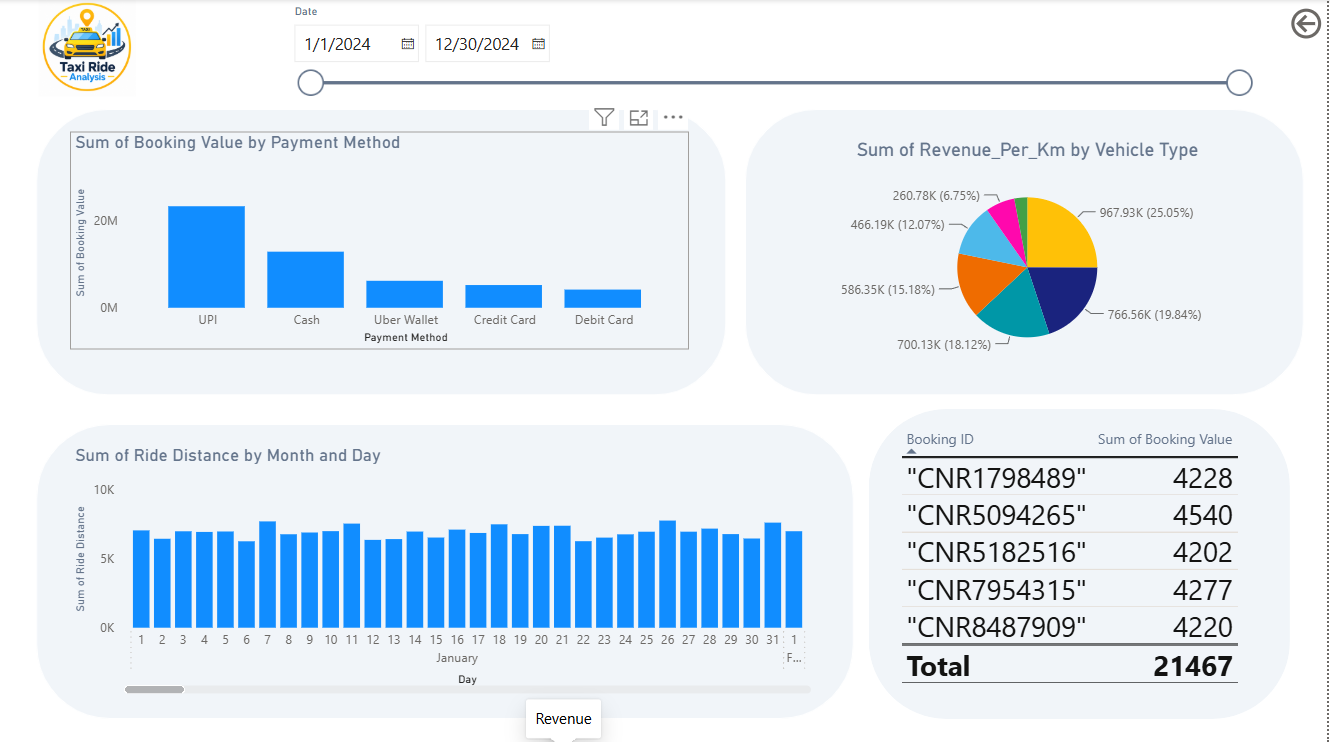

The dashboard page shown, as its layout file describes it:
{"tool":"powerbi","page":{"name":"Revenue","canvas":[1280,720],"ordinal":3},"visuals":[{"type":"shape","box":[719,106.2,539.3,276.3],"z":0},{"type":"shape","box":[35,106.2,666,276.3],"z":1000},{"type":"columnChart","fields":{"Y":["Sum(rideBookings.Booking Value)"],"Category":["rideBookings.Payment Method"]},"box":[67.6,127.9,597.2,209.9],"z":2000},{"type":"slicer","fields":{"Values":["rideBookings.Date"]},"box":[271.4,0,945.8,95.3],"z":3000},{"type":"shape","box":[35,410.2,789,284.7],"z":4000},{"type":"columnChart","fields":{"Category":["rideBookings.Date.Variation.Date Hierarchy.Month","rideBookings.Date.Variation.Date Hierarchy.Day"],"Y":["Sum(rideBookings.Ride Distance)"]},"box":[67.6,429.5,720.2,246.1],"z":5000},{"type":"shape","box":[838.5,395.7,406.6,299.2],"z":6000},{"type":"tableEx","fields":{"Values":["rideBookings.Booking ID","Sum(rideBookings.Booking Value)"]},"box":[863.8,410.2,353.5,265.4],"z":7000},{"type":"pieChart","fields":{"Y":["Sum(rideBookings.Revenue_Per_Km)"],"Category":["rideBookings.Vehicle Type"]},"box":[797.5,135.1,388.5,216],"z":8000},{"type":"actionButton","box":[1241.4,3.6,38.6,39.8],"z":9000},{"type":"image","box":[14.5,0,138.7,94.1],"z":10000}]}

Visuals, with their boxes in screenshot pixels (x1, y1, x2, y2), scaled from the page's 1280x720 canvas onto the 1330x742 screenshot:
shape: [747,109,1307,394]
shape: [36,109,728,394]
columnChart - Sum(rideBookings.Booking Value) x rideBookings.Payment Method: [70,132,691,348]
slicer - rideBookings.Date: [282,0,1265,98]
shape: [36,423,856,716]
columnChart - rideBookings.Date.Variation.Date Hierarchy.Month x rideBookings.Date.Variation.Date Hierarchy.Day: [70,443,819,696]
shape: [871,408,1294,716]
tableEx - rideBookings.Booking ID x Sum(rideBookings.Booking Value): [898,423,1265,696]
pieChart - Sum(rideBookings.Revenue_Per_Km) x rideBookings.Vehicle Type: [829,139,1232,362]
actionButton: [1290,4,1329,45]
image: [15,0,159,97]
